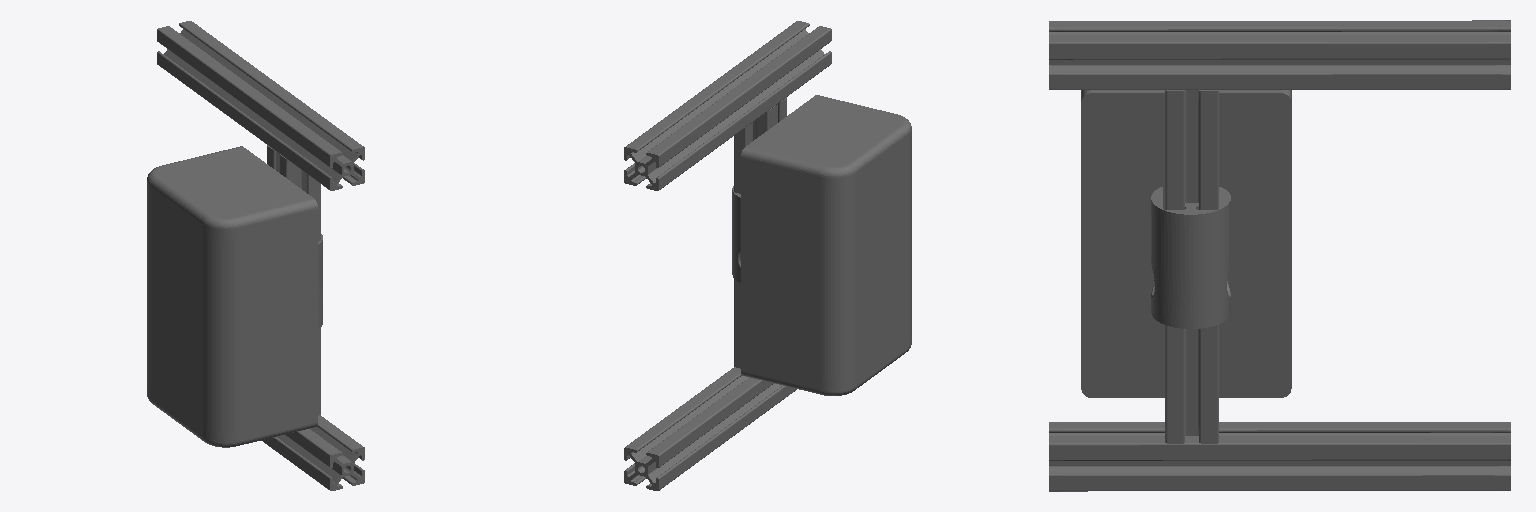
The robot description file, URDF, robot "KneedCompassGait":
<?xml version="1.0" encoding="UTF-8"?>
<robot name = "KneedCompassGait">
	<link name = "exo_pelvis">
		<inertial>
			<origin xyz="0.164969 -0.016465 -0.00031201" rpy="0 0 0"/>
			<mass value = "3.40529" />
			<inertia ixx="0.108005" ixy="0.00342849" ixz="0.00011722" iyy ="0.140273" iyz ="-6.056e-05" izz="0.0409718" />
		</inertial>
		<visual>
			<geometry>
				<mesh filename="./meshes/exo_pelvis_merged_geom.stl"/>
			</geometry>
		</visual>
	</link>
	<link name = "exo_femur_r">
		<inertial>
			<origin xyz="-0.00012287 -0.205637 0.0391034" rpy="0 0 0"/>
			<mass value = "2.77725" />
			<inertia ixx="0.0378701" ixy="7.8e-05" ixz="-0.00043864" iyy ="0.00419727" iyz ="-0.00038322" izz="0.0353309"/>
		</inertial>
		<visual>
			<geometry>
				<mesh filename="./meshes/exo_femur_r_merged_geom.stl"/>
			</geometry>
		</visual>
	</link>

	<link name = "exo_femur_l">
		<inertial>
			<origin xyz="-0.00012287 -0.205637 -0.0391034" rpy="0 0 0"/>
			<mass value = "2.77725" />
			<inertia ixx="0.0378701" ixy="7.8e-05" ixz="0.00043864" iyy ="0.00419727" iyz ="0.00038322" izz="0.0353309" />
		</inertial>
		<visual>
			<geometry>
				<mesh filename="./meshes/exo_femur_l_merged_geom.stl"/>
			</geometry>
		</visual>
	</link>
	<link name = "Battery">
		<inertial>
			<origin xyz="-0.0292753 0.0823604 -0.00041407" rpy="0 0 0"/>
			<mass value = "2.2" />
			<inertia ixx="0.00909547" ixy="-0.00038364" ixz="-7.94e-06" iyy ="0.00798838" iyz ="-3.83e-06" izz="0.00423978" />
		</inertial>
		<visual>
			<origin xyz="0.013  0.0255  0.0925" rpy = "-3.14159  -2.01744e-09  1.57159"/>
			<geometry>
				<mesh filename="./meshes/battery_holders_1.stl"  scale="0.001  0.001  0.001"/>
			</geometry>
			<material name="">
				<color rgba = "0.478431       0.478431       0.478431  1"/>
			</material>
		</visual>
	</link>
	<joint name="exo_hip_r" type="revolute">
		<origin xyz="0.25  -0.06  0.21" rpy="0  -0  0"/>
		<parent link="exo_pelvis"/>
		<child link="exo_femur_r"/>
		<axis xyz="0  0  1"/>
		<limit lower="-3.0944" upper="3.0944" effort="1e2" velocity="1e2"/>
	</joint>
	<joint name="exo_hip_l" type="revolute">
		<origin xyz="0.25  -0.06  -0.21" rpy="0  -0  0"/>
		<parent link="exo_pelvis"/>
		<child link="exo_femur_l"/>
		<axis xyz="0  0  1"/>
		<limit lower="-3.0944" upper="3.0944" effort="1e2" velocity="1e2"/>
	</joint>
	<joint name="Battery_jnt" type="fixed">
		<origin xyz="0  0  0" rpy="0  -0  0"/>
		<parent link="exo_pelvis"/>
		<child link="Battery"/>
	</joint>
</robot>

--- What the picture shows (computed from the rendered views, not written in the file) ---
The picture shows the robot from 3 angles, left to right: view 1: azimuth 30°, elevation 25°; view 2: azimuth 150°, elevation 25°; view 3: azimuth 270°, elevation 25°; orthographic projection.
Model KneedCompassGait with 4 links and 3 joints (2 revolute, 1 fixed), rooted at exo_pelvis, posed every joint at zero.
Links seen in each view (by area): view 1: Battery; view 2: Battery; view 3: Battery.
Link boxes in pixels (x1,y1,x2,y2): Battery: (147, 21, 364, 490); Battery: (624, 21, 911, 490); Battery: (1049, 20, 1510, 491).
Size in the robot's own frame: 0.1059 by 0.22 by 0.236 metres.
1 mesh visuals loaded from 4 distinct referenced files (1 binary STL); not drawn: 3 (reference not matched to a file when rendering).